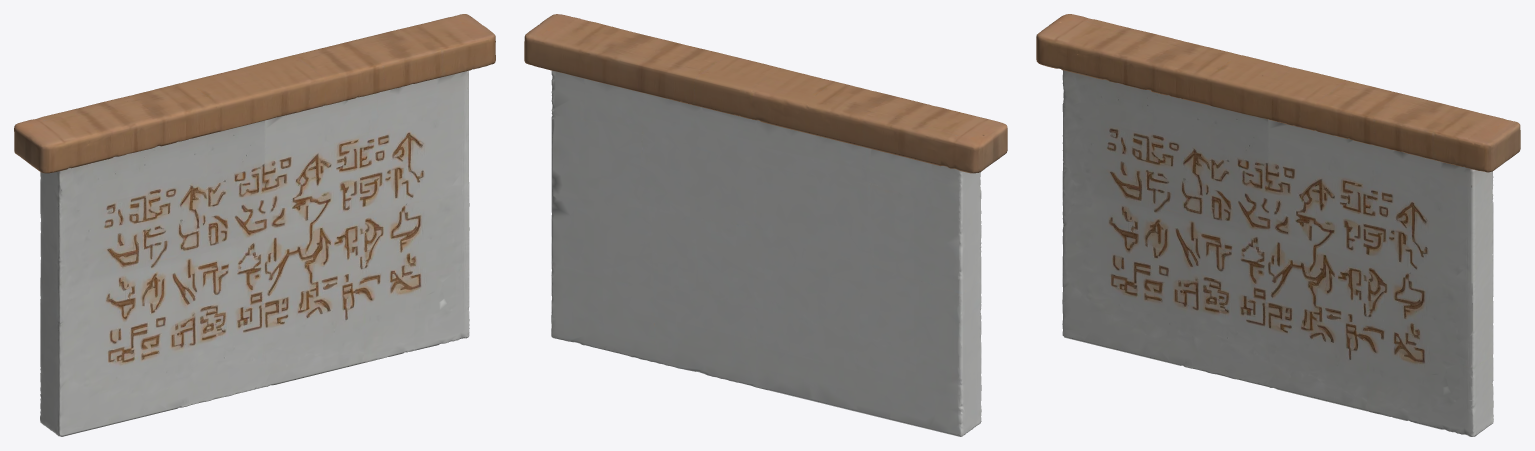
Rendered from wall.glb.
3 renders of one model, left to right at view 1: azimuth 30°, elevation 25°; view 2: azimuth 150°, elevation 25°; view 3: azimuth 330°, elevation 25°, orthographic.
Size of the model in its own units: 2 by 1.26 by 0.2521.
1 material, 1 textured.
